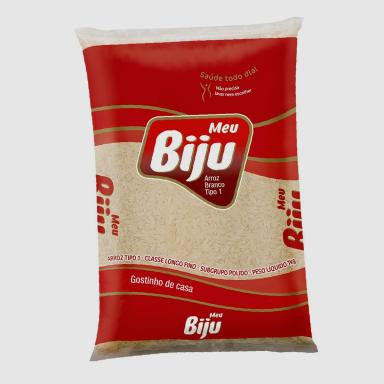rice package: (77, 18, 316, 359)
